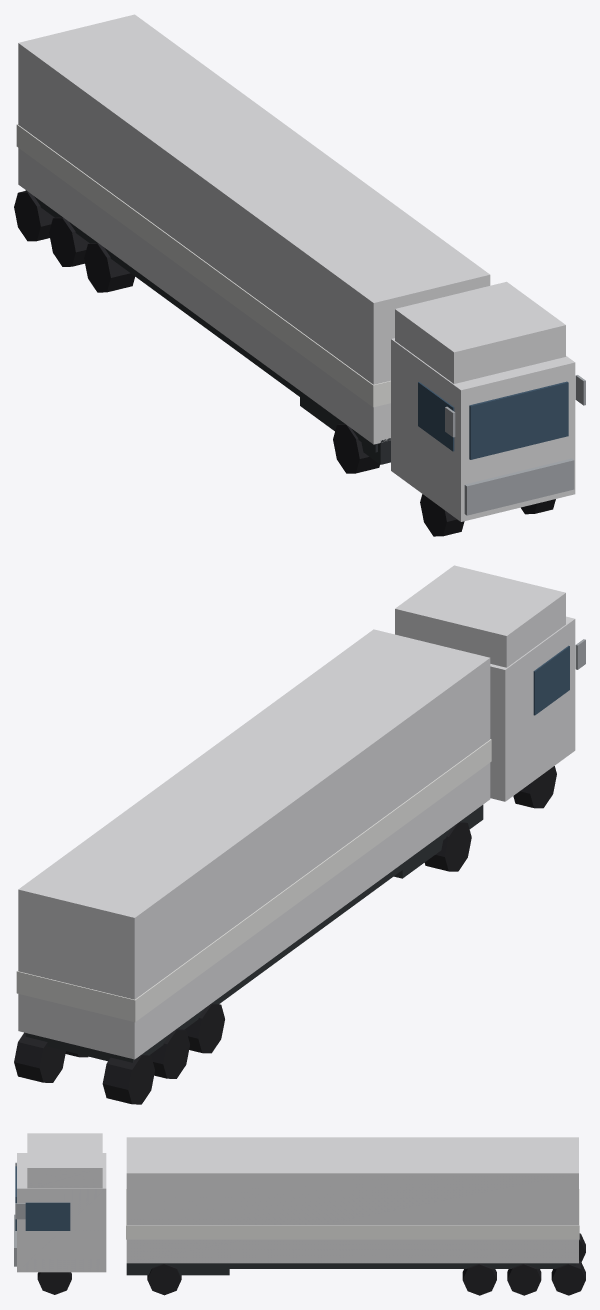
File: caminhao_2.glb
3 views of the same model, one above another, from view 1: azimuth 30°, elevation 25°; view 2: azimuth 150°, elevation 25°; view 3: azimuth 270°, elevation 25° (orthographic). The views are drawn at different scales.
Parts seen in each view (by area): view 1: cor, br, pre, vi, aco, esc; view 2: cor, br, pre, esc, vi; view 3: cor, br, pre, esc, vi, aco.
Boxes of the visible parts, x1,y1,x2,y2 form: cor: (18,14,575,521); br: (16,124,390,407); pre: (14,191,555,536); vi: (418,381,568,459); aco: (445,375,585,515); esc: (25,190,390,464); cor: (18,565,575,1059); br: (16,739,491,1021); pre: (14,766,556,1104); esc: (25,805,483,1062); vi: (533,645,569,715); cor: (17,1133,578,1272); br: (126,1189,579,1239); pre: (37,1233,585,1295); esc: (126,1263,575,1275); vi: (15,1166,70,1230); aco: (14,1162,25,1266).
Size of the model in its own units: 2.85 by 4.1 by 16.69.
